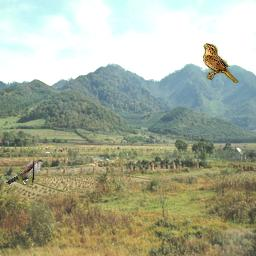Cuckoo: (6, 159, 46, 185)
Sparrow: (203, 43, 239, 83)
